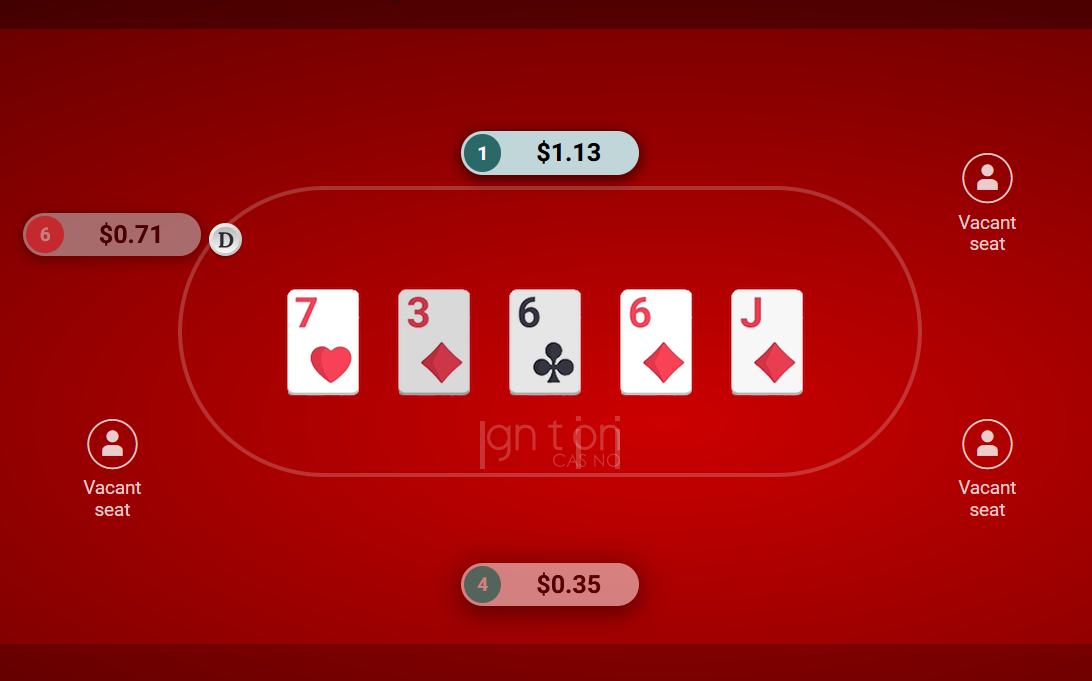3D: (394, 285, 475, 396)
6C: (505, 285, 586, 396)
6D: (616, 285, 697, 396)
7H: (283, 285, 364, 396)
JD: (727, 285, 808, 396)
